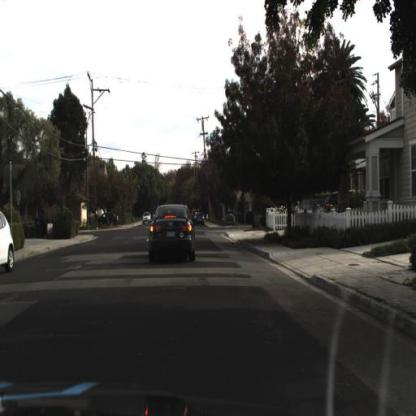car: (145, 203, 196, 271), (2, 205, 18, 278), (93, 207, 125, 233), (140, 205, 155, 231), (193, 210, 207, 231)
